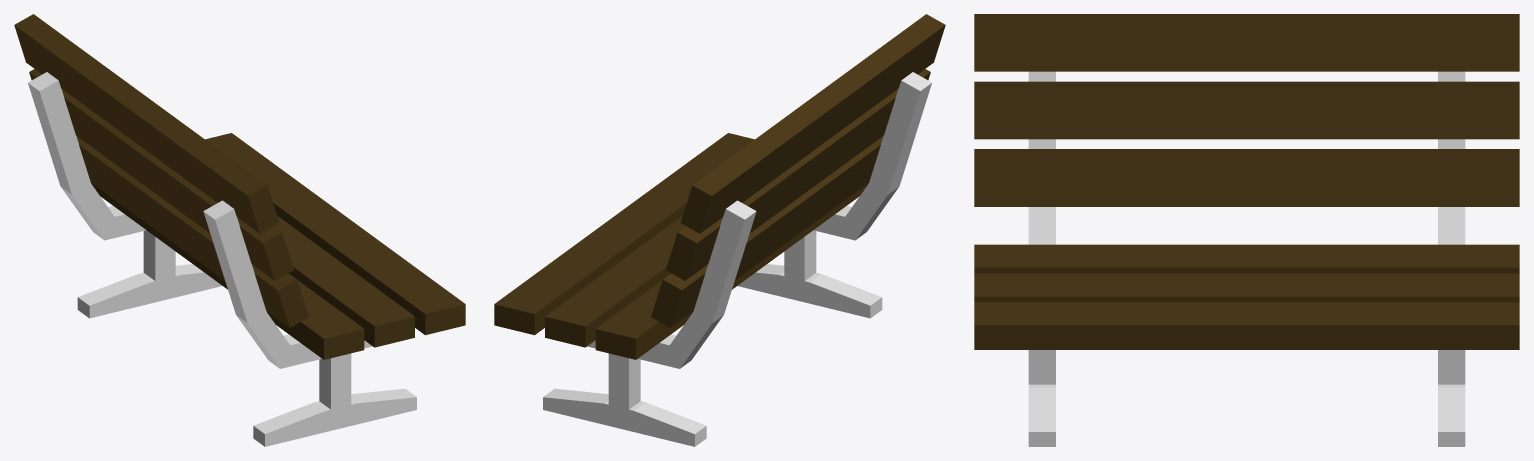
File: Bank.fbx
The picture shows the model from 3 angles, left to right: view 1: azimuth 30°, elevation 25°; view 2: azimuth 150°, elevation 25°; view 3: azimuth 270°, elevation 25°; orthographic projection. The views are drawn at different scales.
Parts seen in each view (by area): view 1: Sitzfläche; view 2: Sitzfläche; view 3: Sitzfläche.
Boxes of the visible parts, x1=… form: Sitzfläche: x1=14, y1=14, x2=465, y2=446; Sitzfläche: x1=494, y1=14, x2=945, y2=446; Sitzfläche: x1=974, y1=14, x2=1519, y2=446.
Bounding box in the file's own units: 224 × 268 × 400.
